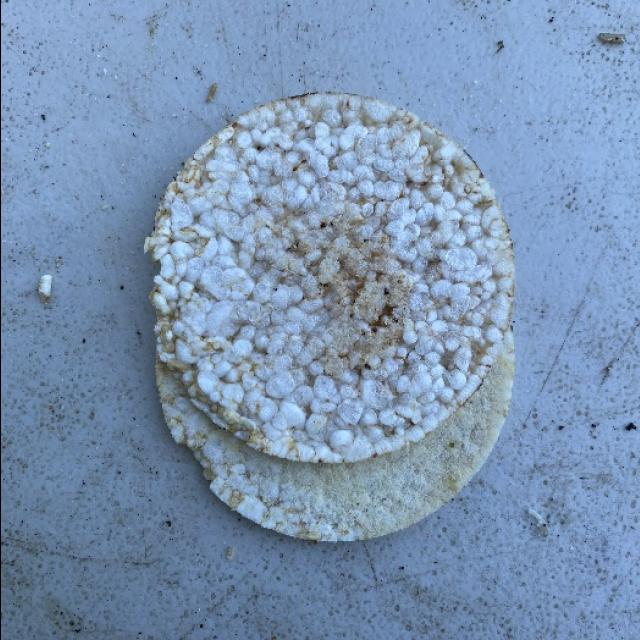organik: (138, 80, 512, 536)
